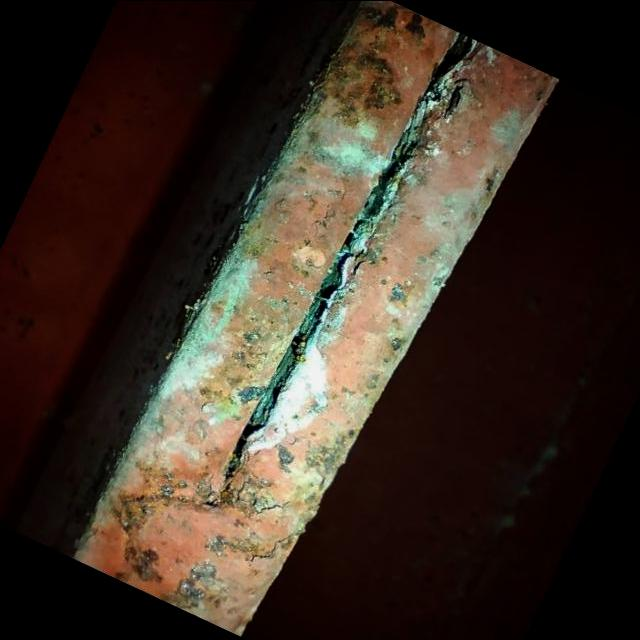defect: (214, 30, 483, 489), (243, 532, 299, 562), (244, 498, 294, 520)
